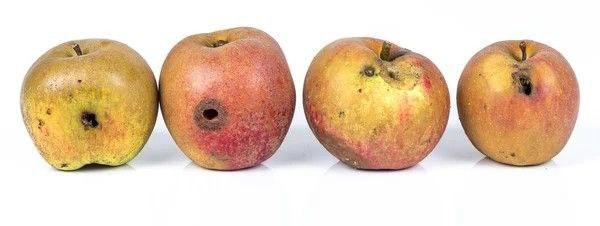Apple: (303, 36, 449, 170), (161, 29, 295, 168), (20, 40, 158, 170), (456, 47, 578, 162)
